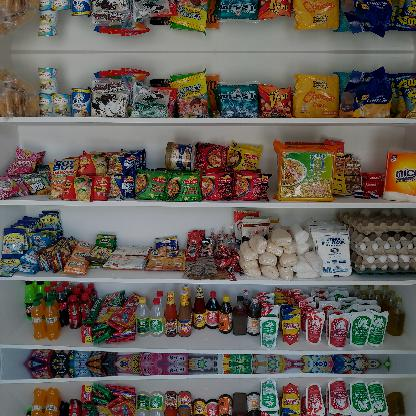Lady-s-Choice: (165, 141, 196, 171)
